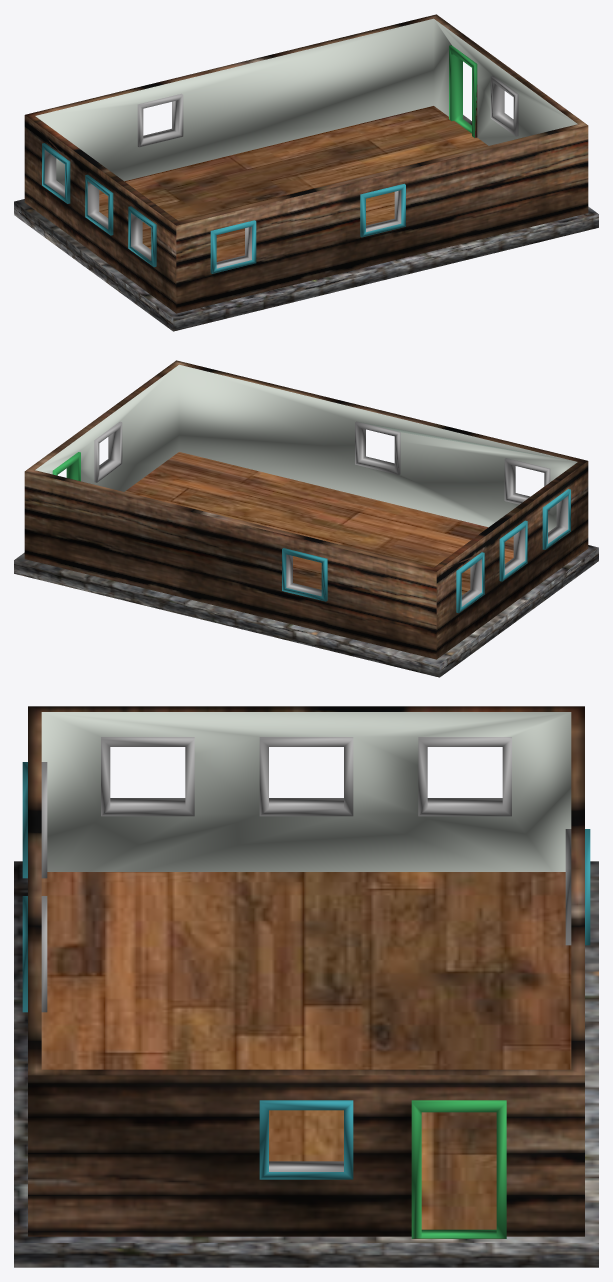
3 views of the same model, one above another, from view 1: azimuth 30°, elevation 25°; view 2: azimuth 150°, elevation 25°; view 3: azimuth 270°, elevation 25° (orthographic). The views are drawn at different scales.
Parts seen in each view (by area): view 1: 0frontwall_Cube.009, 0floor_Plane.006, 0base_Cube.006; view 2: 0frontwall_Cube.009, 0floor_Plane.006, 0base_Cube.006; view 3: 0frontwall_Cube.009, 0floor_Plane.006, 0base_Cube.006.
Boxes of the visible parts, bbox=[...] form: 0frontwall_Cube.009: bbox=[24, 14, 588, 313]; 0floor_Plane.006: bbox=[99, 106, 488, 261]; 0base_Cube.006: bbox=[14, 115, 598, 331]; 0frontwall_Cube.009: bbox=[24, 360, 588, 659]; 0floor_Plane.006: bbox=[124, 452, 513, 595]; 0base_Cube.006: bbox=[14, 545, 598, 677]; 0frontwall_Cube.009: bbox=[22, 706, 590, 1238]; 0floor_Plane.006: bbox=[41, 872, 571, 1229]; 0base_Cube.006: bbox=[14, 861, 598, 1267].
Size of the model in its own units: 11.39 by 2.59 by 7.38.
